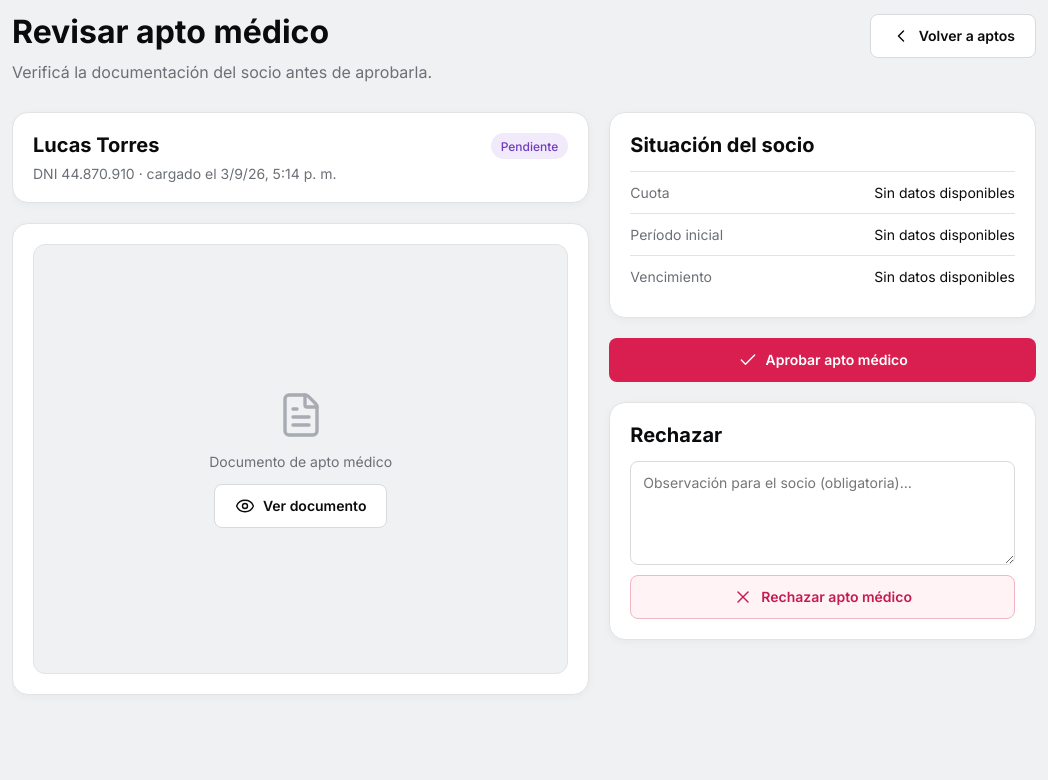
Test: revisión administrativa de aptos médicos › rechaza con comentario y envía el PATCH real
In the text box labelled "Observación para el socio": (823, 513) [630,461,1015,565], type "La imagen está cortada."
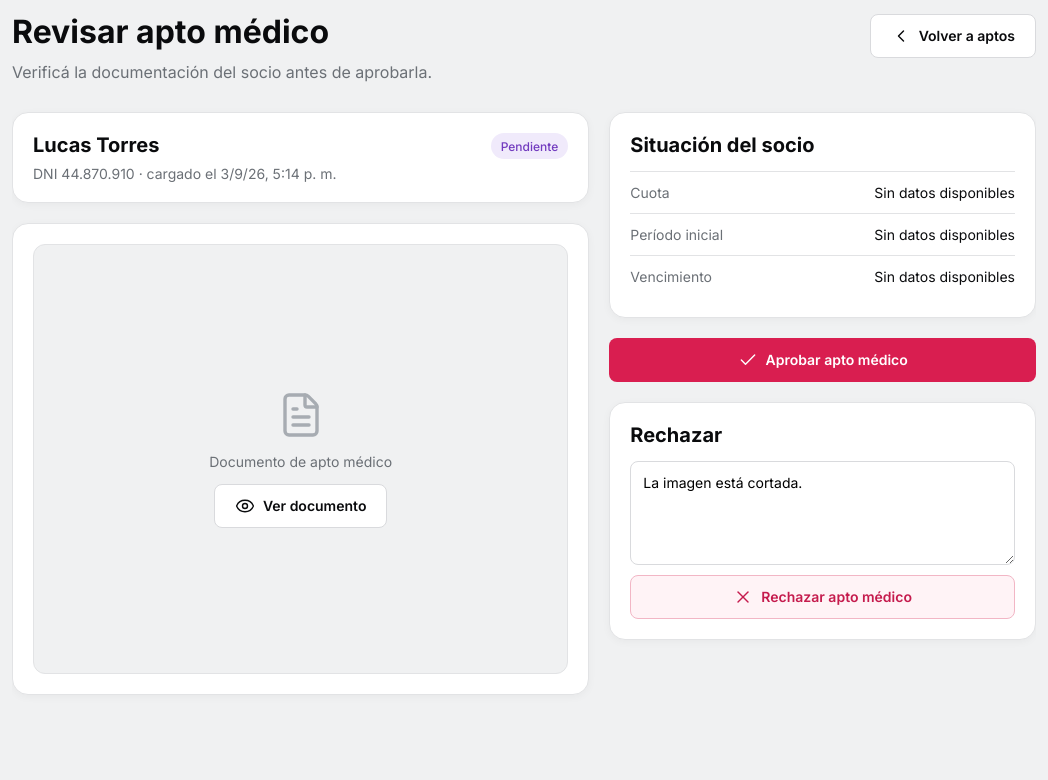
Click the button "Rechazar apto médico": (823, 597) [630,575,1015,619]
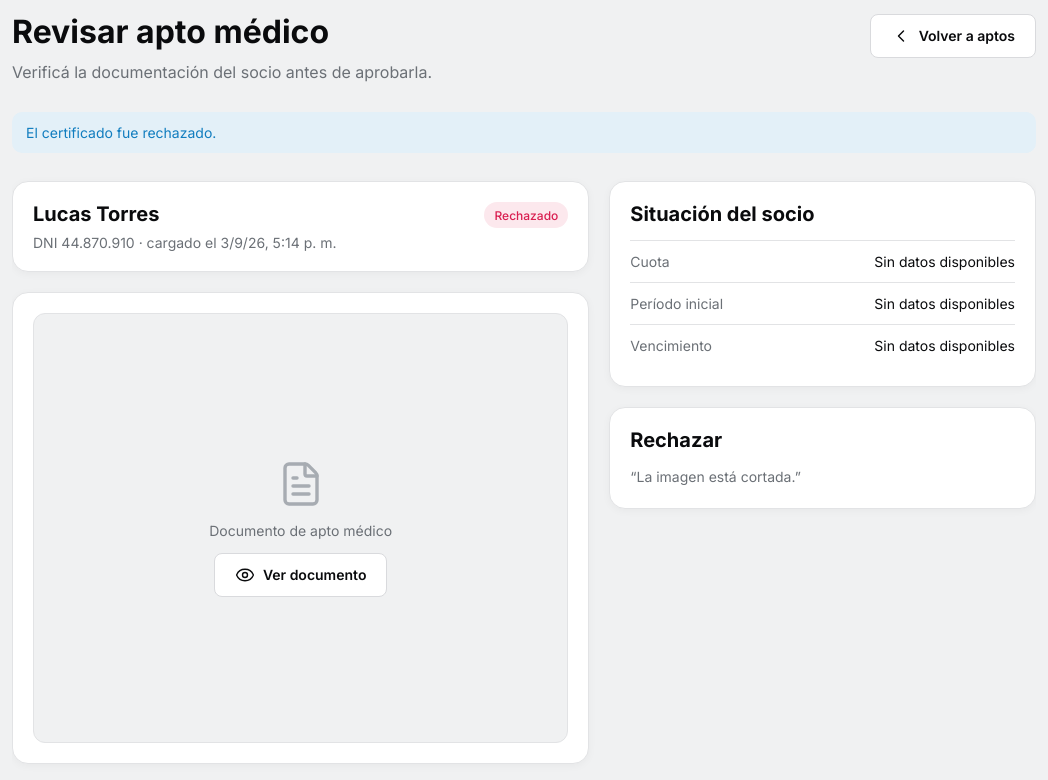
Check: the text "El certificado fue rechazado." is shown, box [12,112,1036,153]
